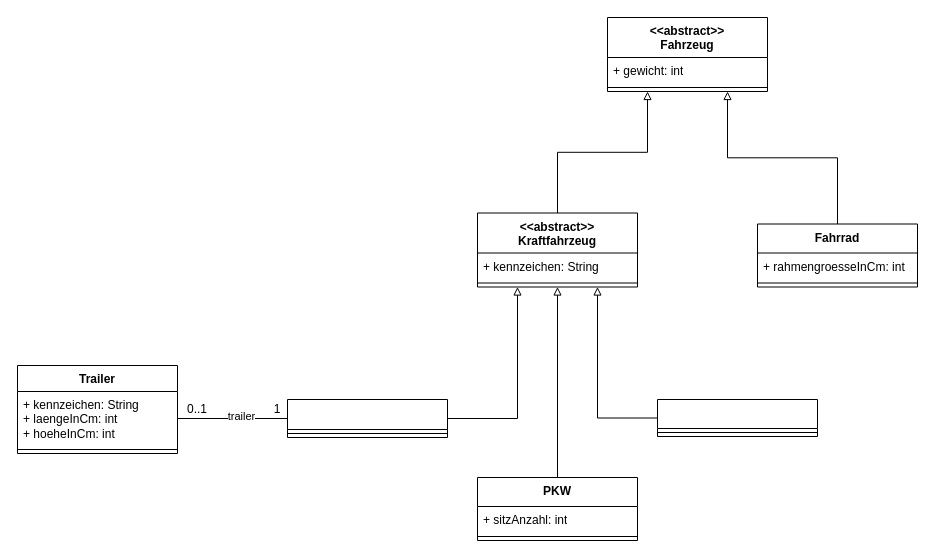
Image size: 935x558. Some labels were removed from this diagram. Here are the shapes that lost their labels. From the top down, the centre of each, then its label:
(367,418): LKW
(737,417): Moped
